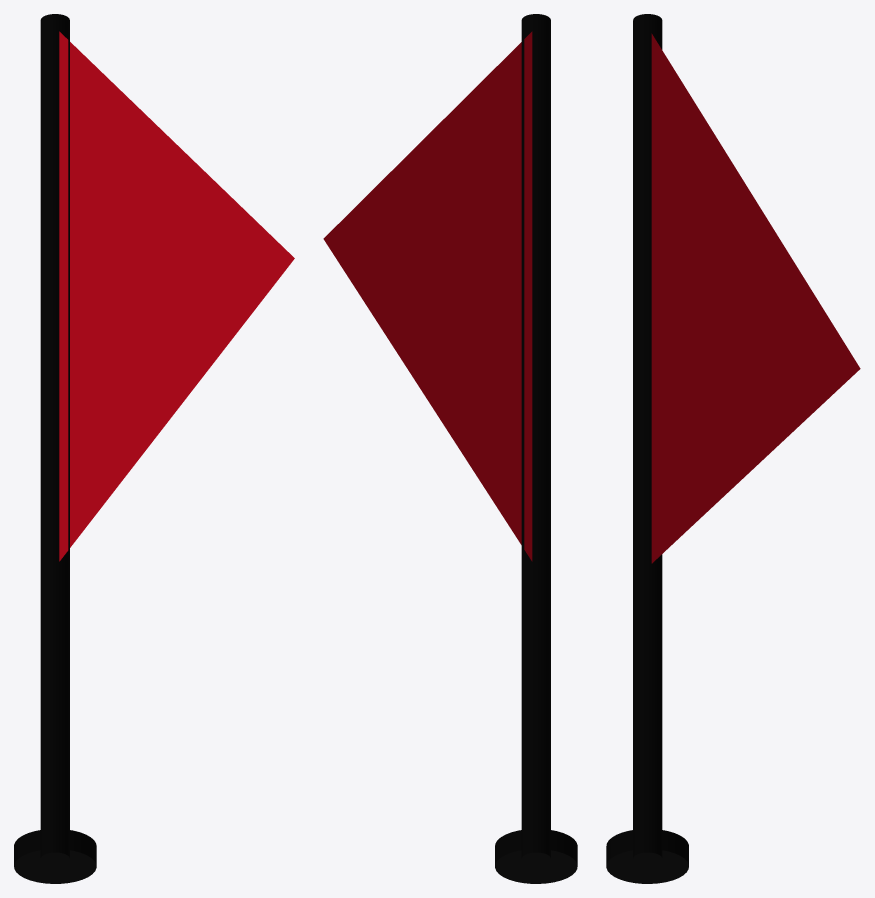
Rendered from minesweeper_flag.fbx.
The picture shows the model from 3 angles, left to right: view 1: azimuth 30°, elevation 25°; view 2: azimuth 150°, elevation 25°; view 3: azimuth 330°, elevation 25°; orthographic projection.
Visible parts, largest first — view 1: Cube; view 2: Cube; view 3: Cube.
Part boxes in pixels (x1,y1,x2,y2): Cube: (14, 14, 294, 883); Cube: (323, 14, 577, 883); Cube: (606, 14, 860, 883).
Bounding box in the file's own units: 13.13 × 40.51 × 3.59.
